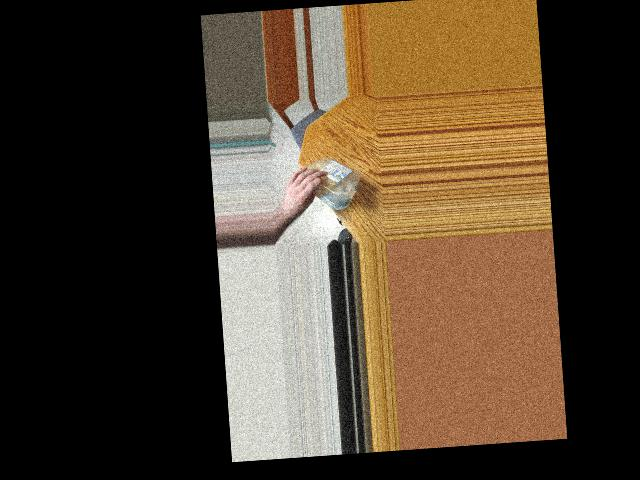cheese: (293, 154, 363, 209)
